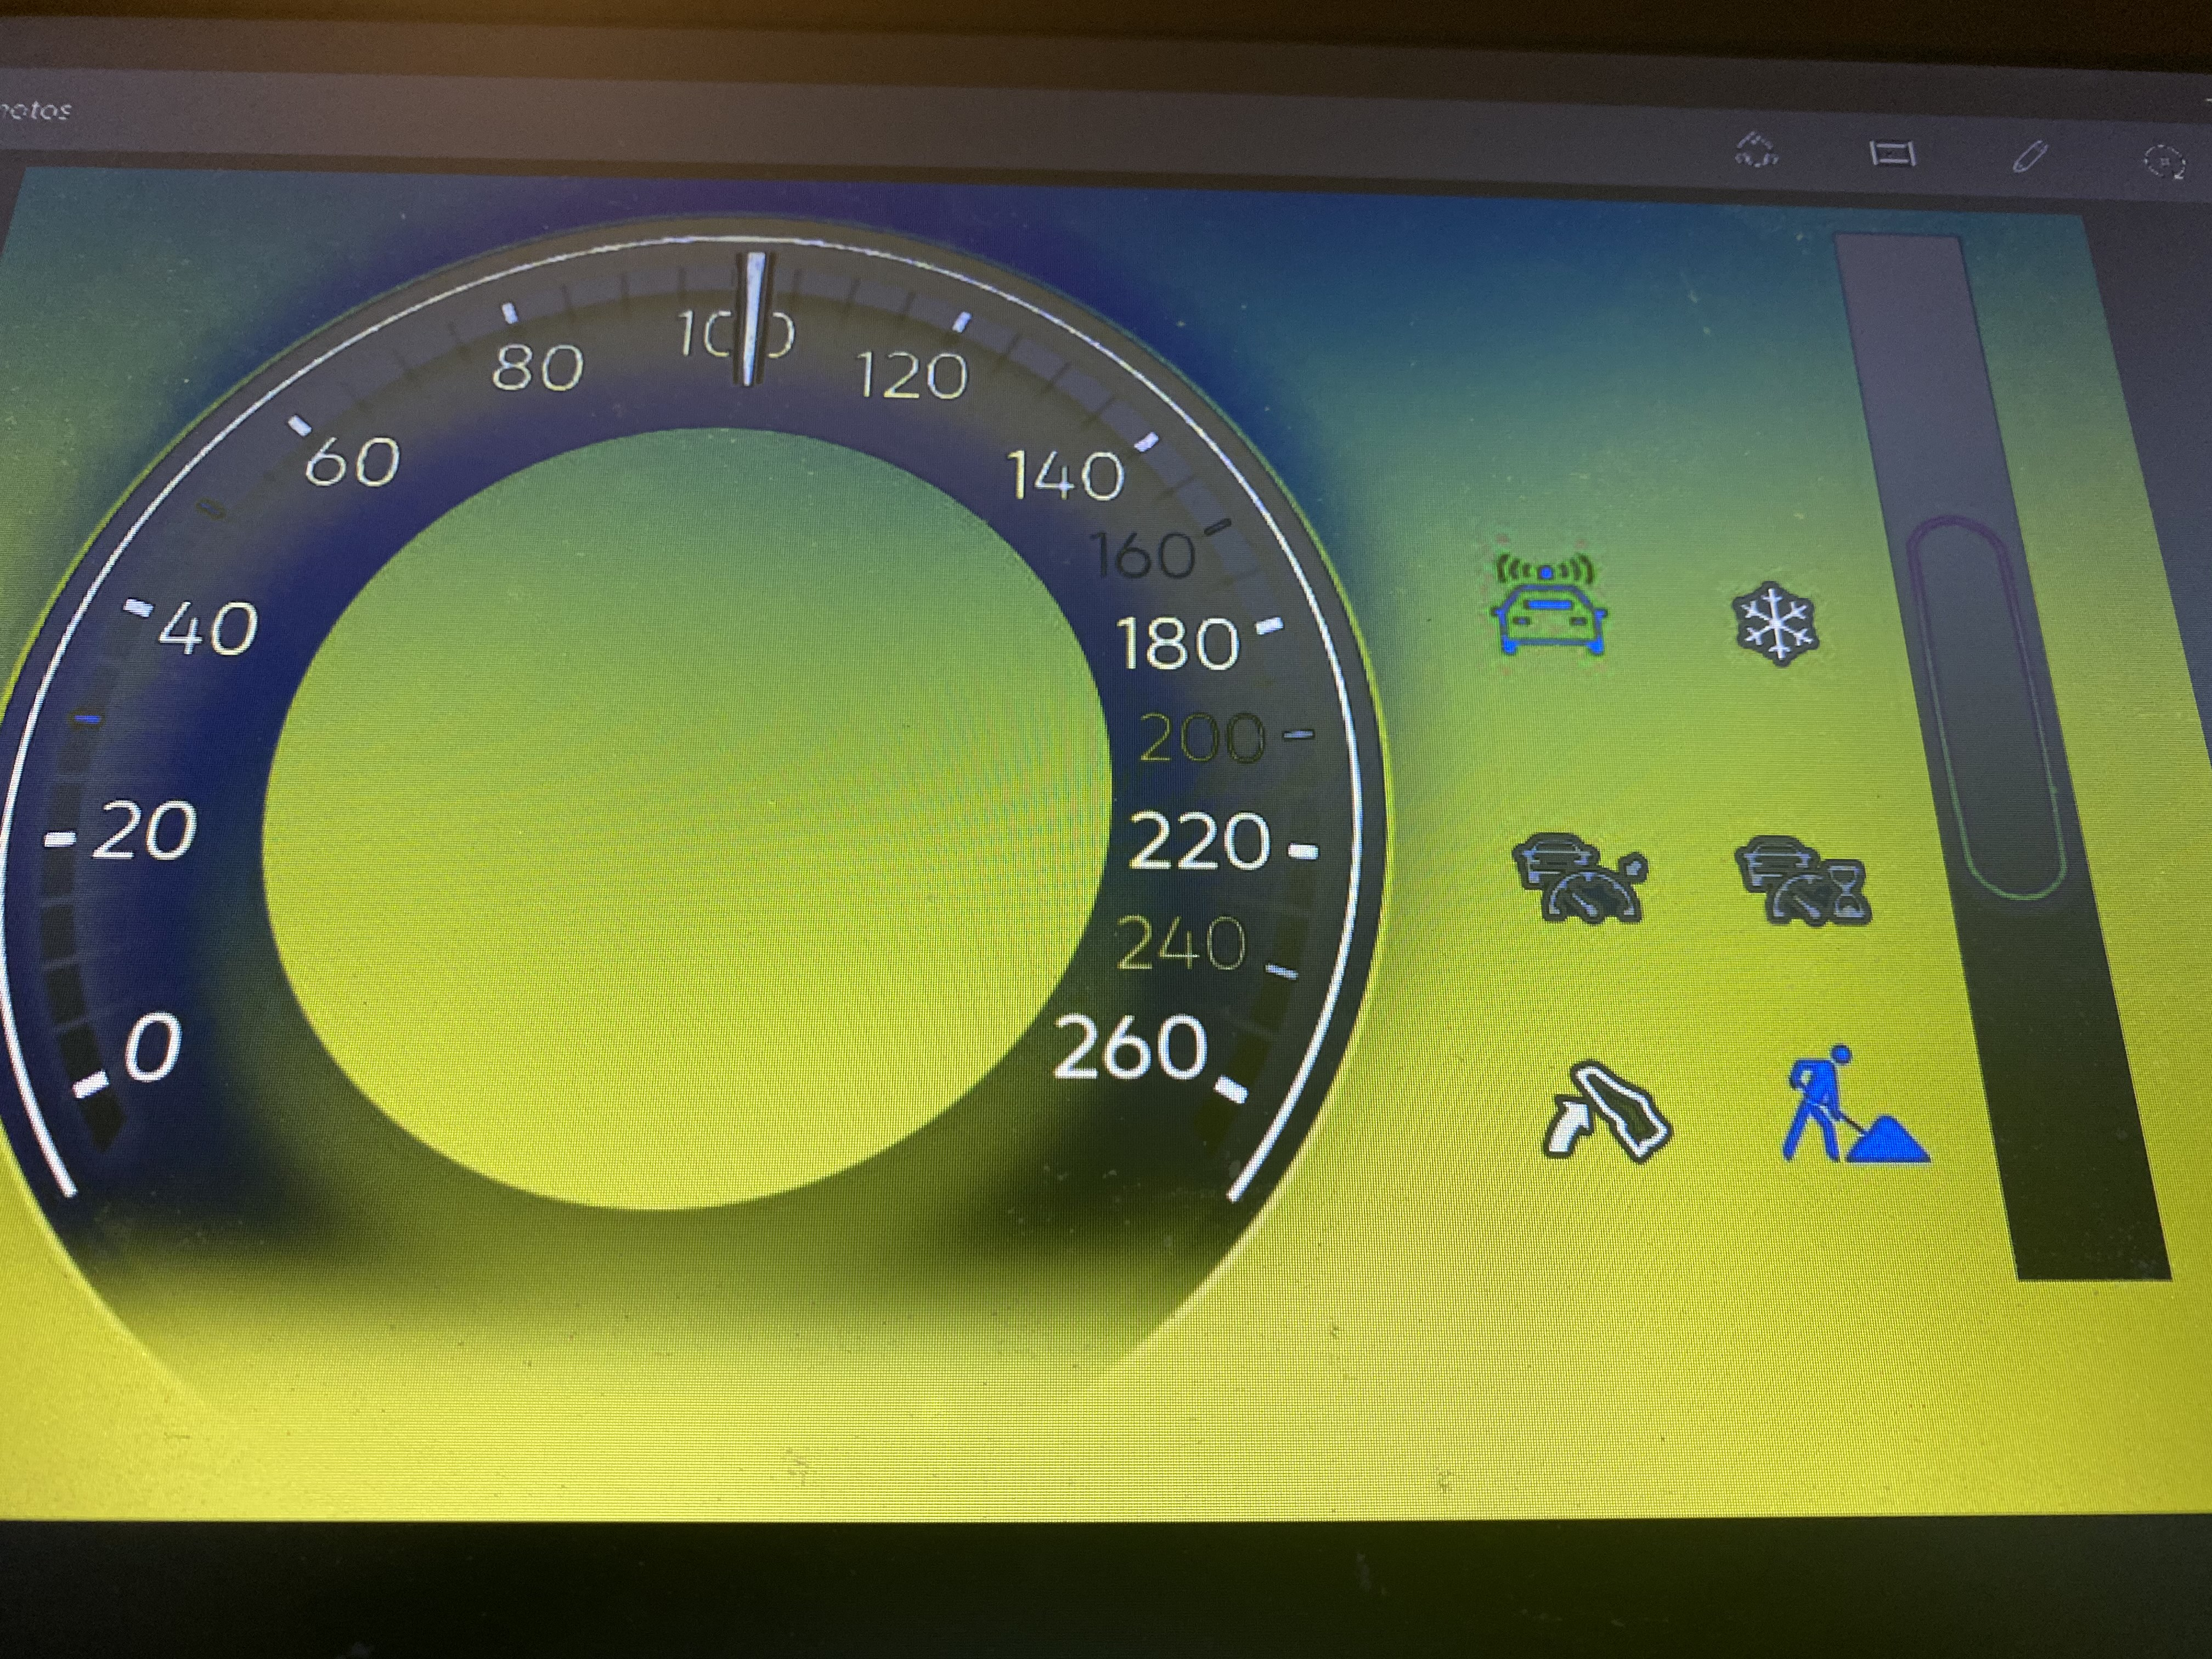ACCELERATOR: (1517, 1040, 1719, 1213)
ACC_AKTIV: (1479, 795, 1663, 951)
ACC_WAITING: (1716, 803, 1897, 941)
CONSTRUCTION: (1766, 1019, 1958, 1195)
EISSTERN: (1726, 544, 1839, 685)
SEV_INF: (1479, 533, 1649, 683)
SLIDER: (1904, 507, 2095, 924)
TUBE: (23, 173, 1418, 1438)
